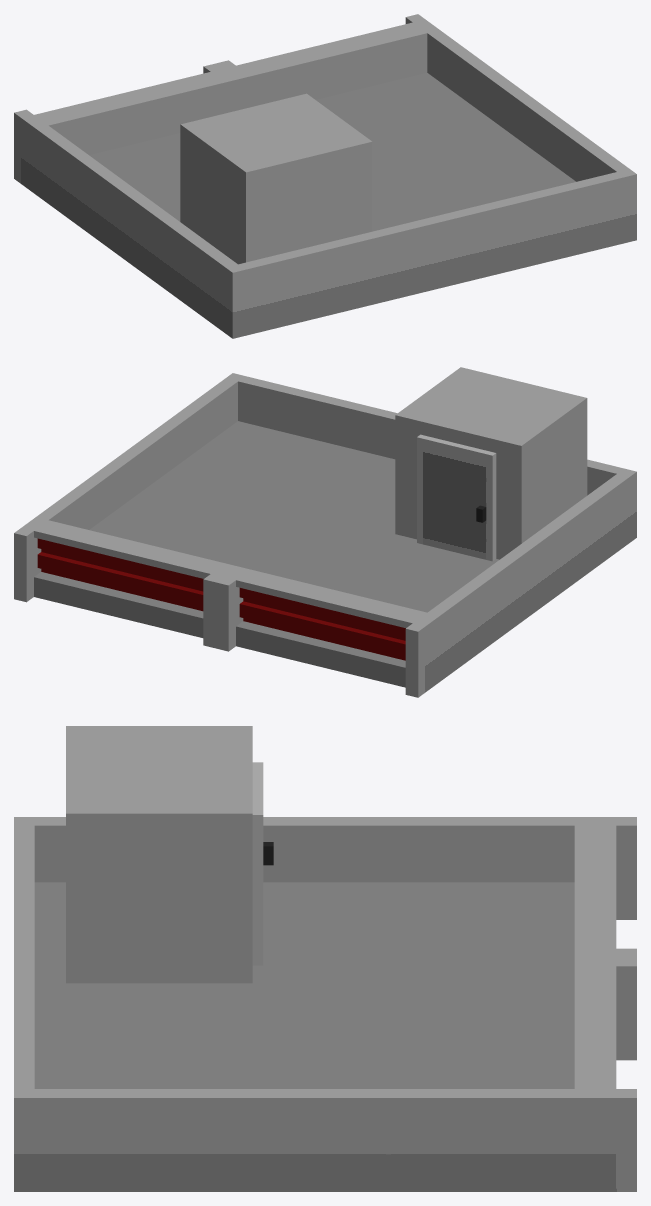
File: obj_story04b.fbx
3 views of the same model, one above another, from view 1: azimuth 30°, elevation 25°; view 2: azimuth 150°, elevation 25°; view 3: azimuth 270°, elevation 25° (orthographic). The views are drawn at different scales.
Parts seen in each view (by area): view 1: obj_story04b; view 2: obj_story04b; view 3: obj_story04b.
Boxes of the visible parts, <box> form: obj_story04b: <box>14,14,636,338</box>; obj_story04b: <box>14,367,636,697</box>; obj_story04b: <box>14,726,636,1191</box>.
Size of the model in its own units: 6.4 by 6 by 2.2.
Materials: 1 (1 with a texture image).
